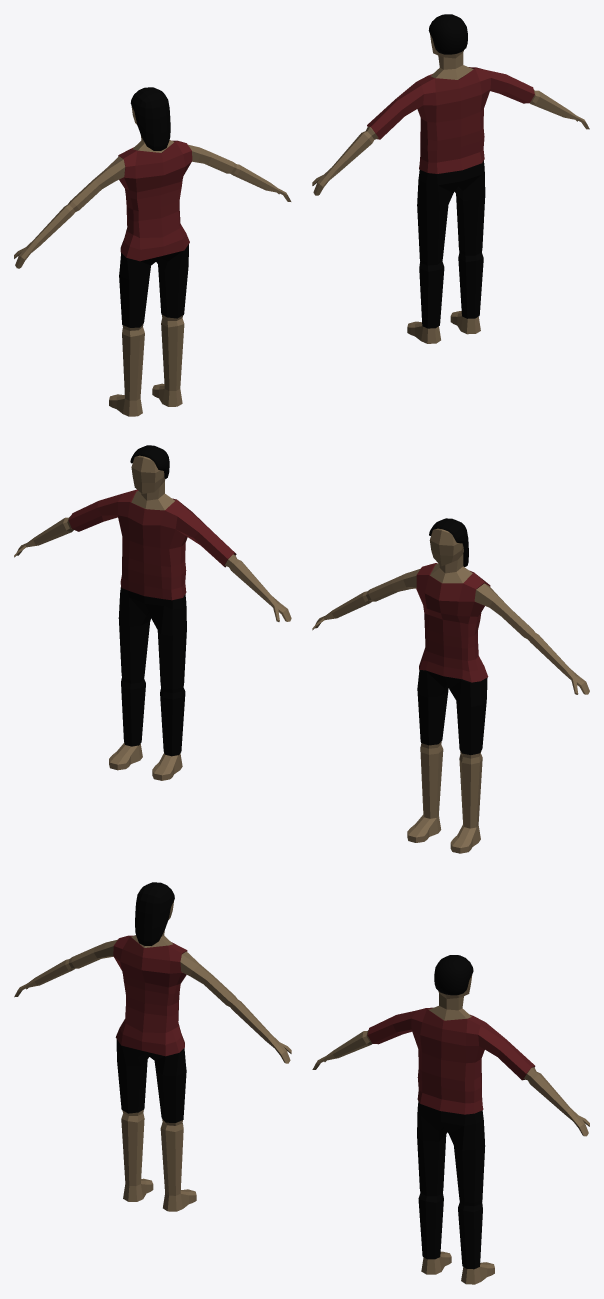
File: All.fbx
The picture shows the model from 3 angles, top to bottom: view 1: azimuth 30°, elevation 25°; view 2: azimuth 150°, elevation 25°; view 3: azimuth 330°, elevation 25°; orthographic projection.
Visible parts, largest first — view 1: T-shirt, pants, Bodey Girl, T-shirt Girl, pants Girl, Bodey Boy, girl's hair, Boy's hair; view 2: Bodey Girl, T-shirt, pants, T-shirt Girl, Bodey Boy, pants Girl, girl's hair, Boy's hair; view 3: T-shirt, pants, Bodey Girl, T-shirt Girl, pants Girl, Bodey Boy, girl's hair, Boy's hair.
Part boxes in pixels (box(x1,y1,x2,y2)): T-shirt: box(367, 67, 534, 173); pants: box(417, 160, 485, 328); Bodey Girl: box(14, 106, 291, 416); T-shirt Girl: box(118, 140, 192, 261); pants Girl: box(119, 244, 188, 327); Bodey Boy: box(312, 34, 589, 343); girl's hair: box(130, 87, 170, 150); Boy's hair: box(428, 14, 467, 54); Bodey Girl: box(312, 528, 589, 853); T-shirt: box(68, 489, 236, 600); pants: box(118, 587, 186, 756); T-shirt Girl: box(416, 563, 490, 682); Bodey Boy: box(14, 455, 291, 780); pants Girl: box(417, 670, 487, 754); girl's hair: box(429, 518, 468, 566); Boy's hair: box(130, 445, 169, 478); T-shirt: box(367, 1007, 535, 1114); pants: box(417, 1101, 485, 1269); Bodey Girl: box(14, 901, 291, 1211); T-shirt Girl: box(113, 935, 187, 1056); pants Girl: box(116, 1039, 186, 1122); Bodey Boy: box(312, 975, 589, 1284); girl's hair: box(135, 882, 174, 945); Boy's hair: box(434, 955, 473, 995).
Size of the model in its own units: 2914 by 1545 by 250.
